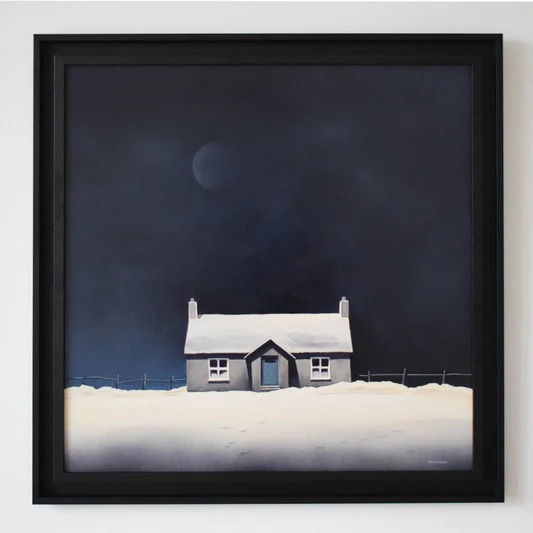painting: (32, 32, 506, 504)
